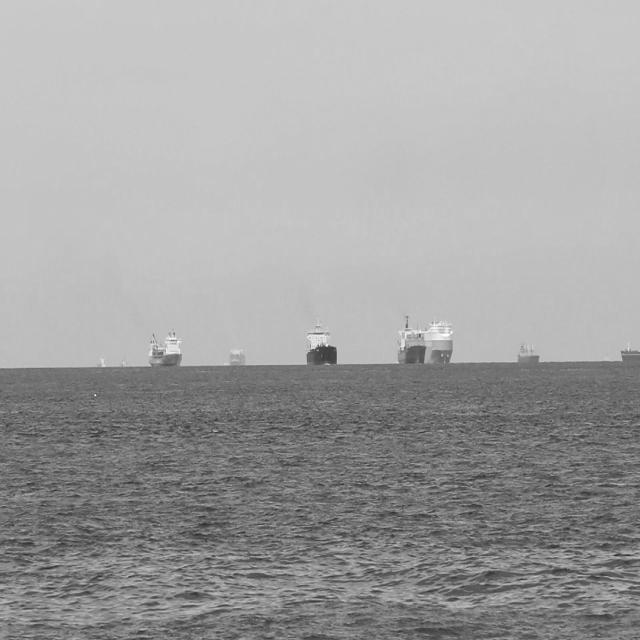ship: (303, 313, 338, 369), (396, 308, 426, 365), (147, 328, 184, 370), (427, 311, 455, 365), (515, 339, 541, 365), (617, 336, 639, 363), (226, 347, 246, 369), (96, 348, 109, 368), (118, 352, 130, 369)
